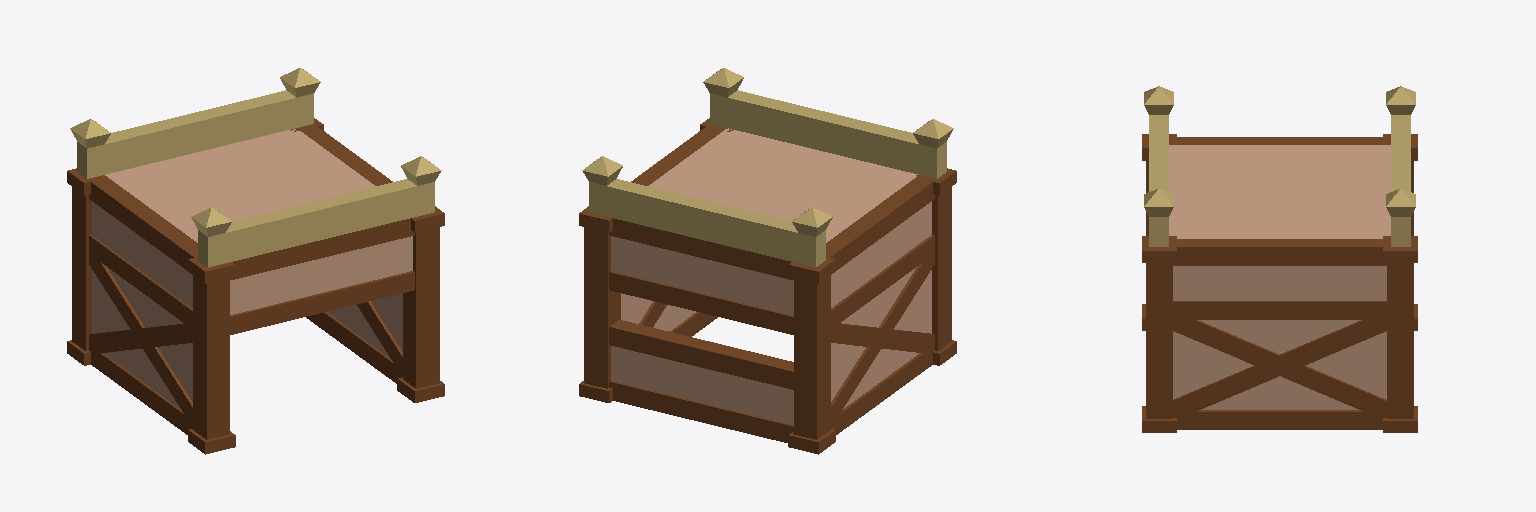
3 views of the same model, side by side, from view 1: azimuth 30°, elevation 25°; view 2: azimuth 150°, elevation 25°; view 3: azimuth 270°, elevation 25° (orthographic).
Parts seen in each view (by area): view 1: Pillar; view 2: Pillar; view 3: Pillar.
Part boxes in pixels (bbox=[...]): Pillar: bbox=[67, 68, 444, 454]; Pillar: bbox=[579, 68, 956, 454]; Pillar: bbox=[1142, 86, 1417, 432].
Size of the model in its own units: 41.2 by 39 by 41.2.
Materials: 1 (1 with a texture image).